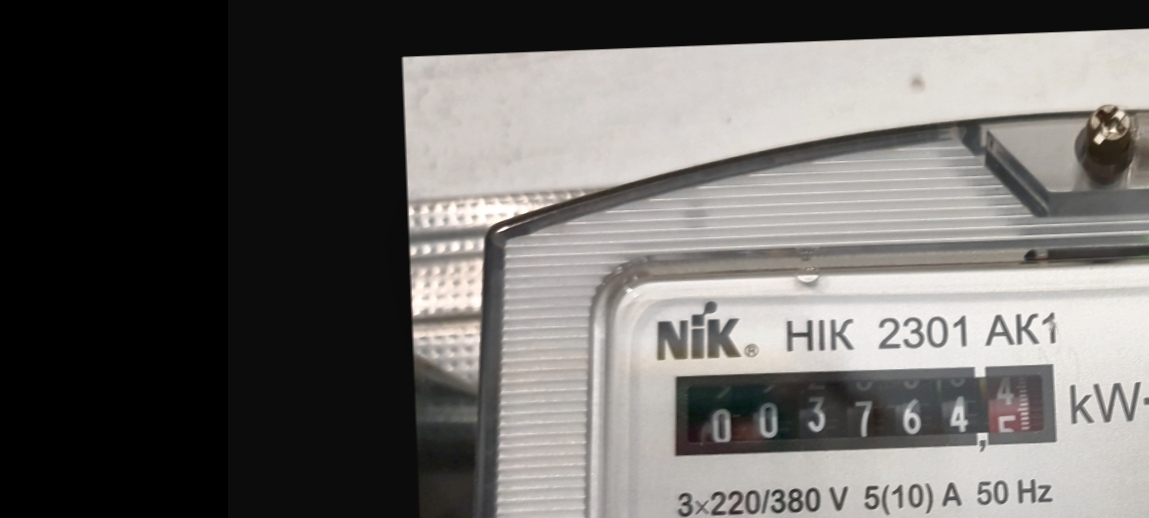0: (709, 407, 734, 446), (757, 401, 780, 441)
3: (805, 395, 829, 436)
4: (949, 395, 970, 435), (995, 376, 1017, 408)
5: (996, 414, 1019, 437)
6: (902, 398, 923, 438)
7: (853, 398, 877, 441)
screen: (658, 348, 1073, 473)
